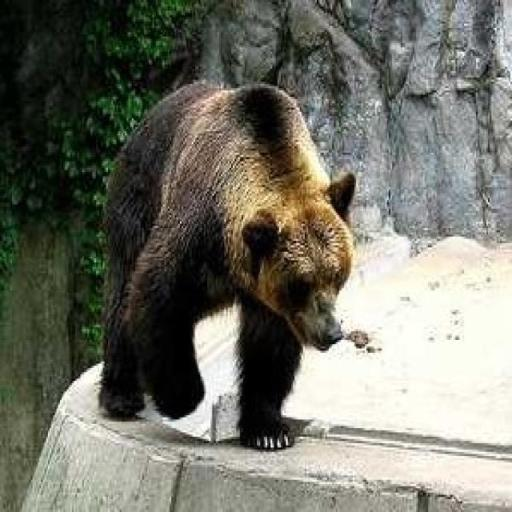Bear: (98, 78, 356, 450)
